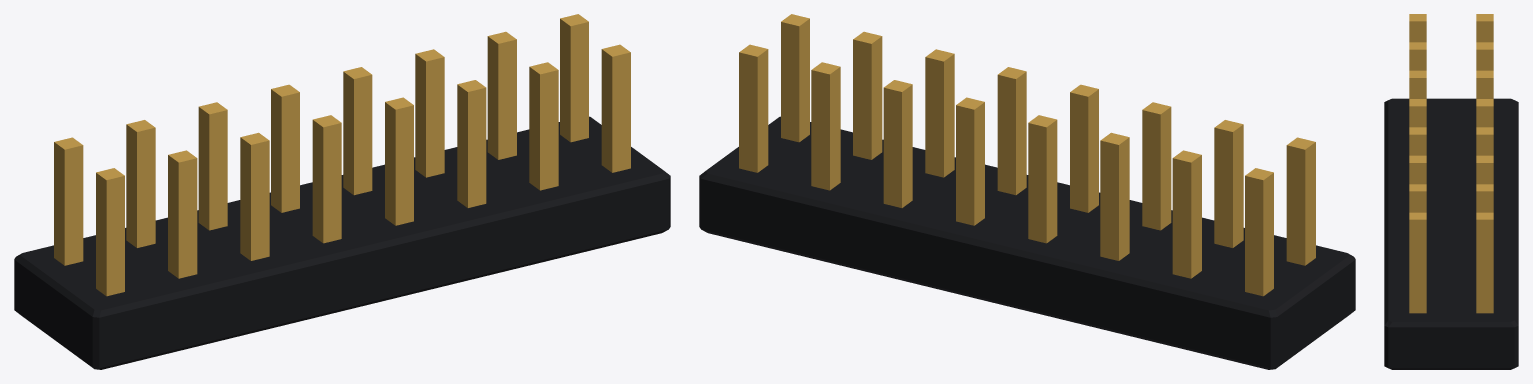
Rendered from L128_F_PANEL.fbx.
3 views of the same model, side by side, from view 1: azimuth 30°, elevation 25°; view 2: azimuth 150°, elevation 25°; view 3: azimuth 270°, elevation 25° (orthographic). The views are drawn at different scales.
Parts seen in each view (by area): view 1: F_PANEL__Plastic, F_PANEL__Gold; view 2: F_PANEL__Plastic, F_PANEL__Gold; view 3: F_PANEL__Plastic, F_PANEL__Gold.
Boxes of the visible parts, x1,y1,x2,y2 form: F_PANEL__Plastic: [14, 116, 670, 369]; F_PANEL__Gold: [54, 14, 630, 296]; F_PANEL__Plastic: [699, 116, 1355, 369]; F_PANEL__Gold: [739, 14, 1315, 296]; F_PANEL__Plastic: [1384, 98, 1518, 369]; F_PANEL__Gold: [1409, 14, 1493, 313].
Bounding box in the file's own units: 20.32 × 5.9 × 5.08.
